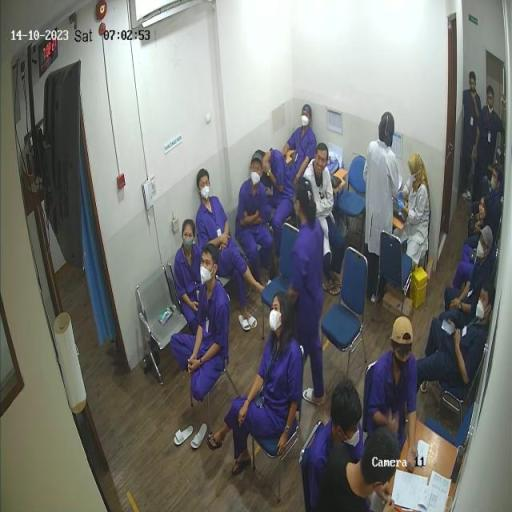person: (210, 291, 303, 473), (197, 169, 265, 330), (416, 280, 497, 399), (172, 245, 231, 403), (290, 177, 326, 406), (368, 318, 419, 469), (310, 379, 363, 512), (364, 112, 400, 304), (304, 144, 348, 297), (321, 430, 396, 512), (235, 153, 274, 294), (445, 228, 495, 326), (258, 151, 296, 272), (401, 156, 432, 297), (456, 197, 497, 292), (475, 86, 506, 208), (177, 221, 208, 335), (284, 105, 318, 200), (463, 71, 482, 204), (476, 164, 503, 240)
